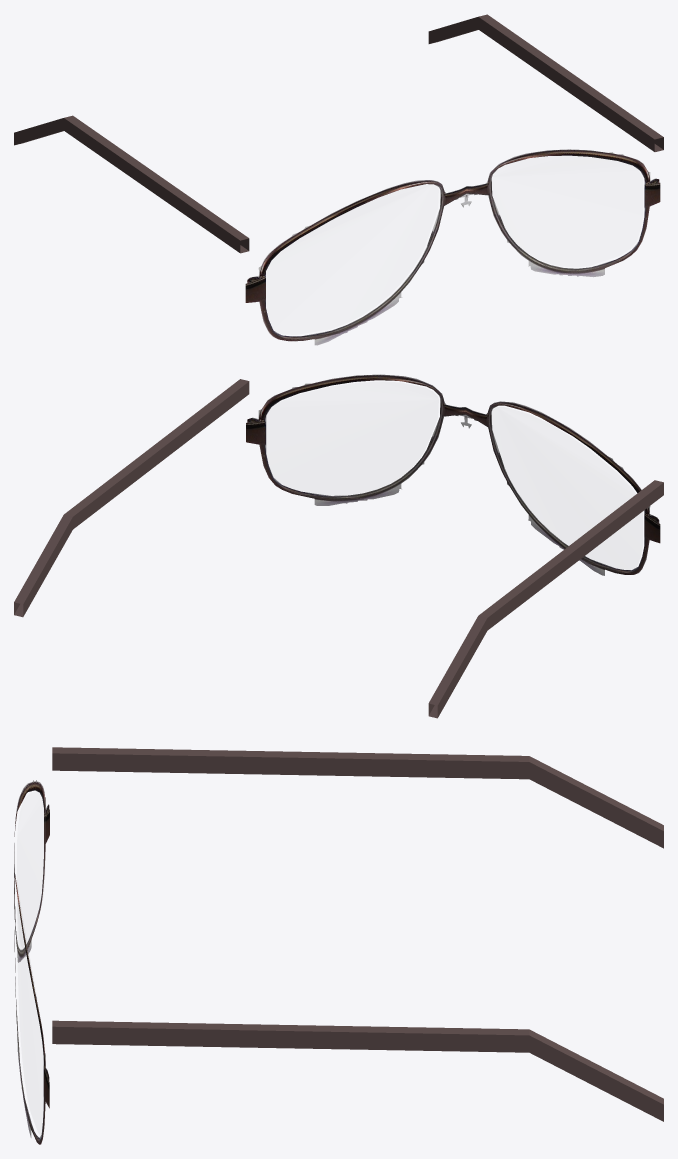
Rendered from gothamstyle-stainless-2_brown.glb.
3 views of the same model, one above another, from view 1: azimuth 30°, elevation 25°; view 2: azimuth 150°, elevation 25°; view 3: azimuth 270°, elevation 25° (orthographic). The views are drawn at different scales.
Parts seen in each view (by area): view 1: frame_front, temple_viewer_left, temple_viewer_right; view 2: frame_front, temple_viewer_left, temple_viewer_right; view 3: temple_viewer_left, temple_viewer_right, frame_front.
Boxes of the visible parts, x1,y1,x2,y2 form: frame_front: [245, 149, 660, 345]; temple_viewer_left: [14, 115, 249, 253]; temple_viewer_right: [428, 14, 663, 151]; frame_front: [246, 374, 660, 575]; temple_viewer_left: [428, 480, 663, 718]; temple_viewer_right: [14, 379, 249, 617]; temple_viewer_left: [52, 747, 663, 848]; temple_viewer_right: [52, 1020, 663, 1121]; frame_front: [14, 780, 49, 1144].
Bounding box in the file's own units: 0.1384 × 0.0456 × 0.136.
3 materials, 2 textured.
